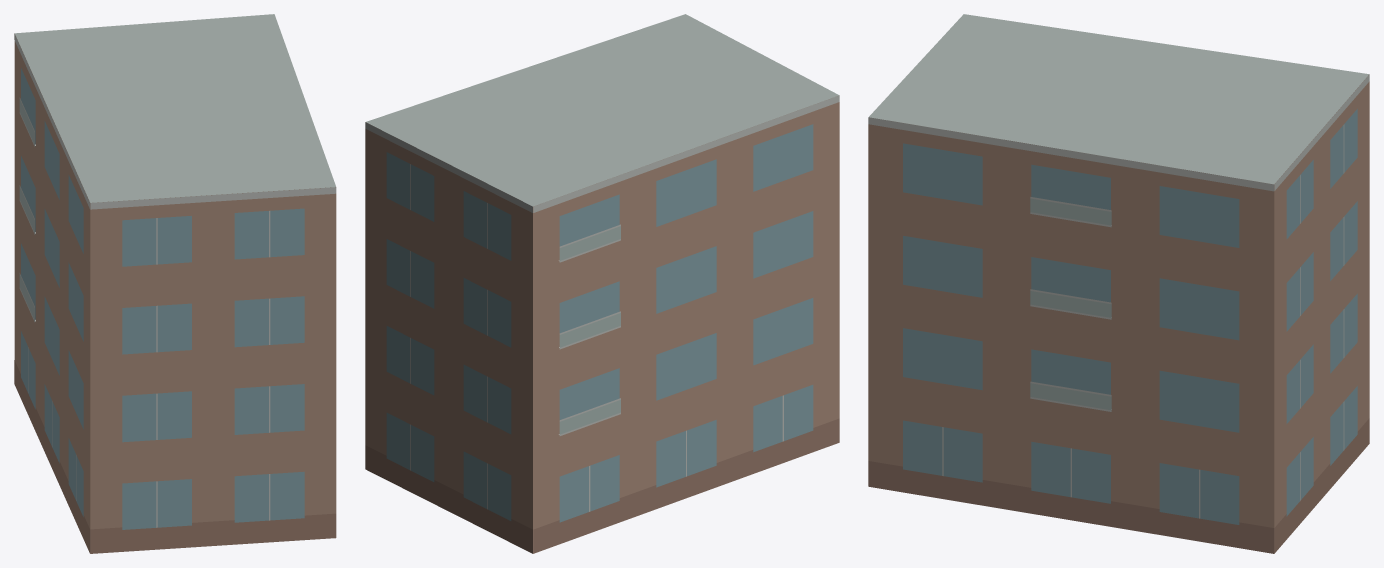
Rendered from survey-upis-32759686.glb.
3 views of the same model, side by side, from view 1: azimuth 30°, elevation 25°; view 2: azimuth 150°, elevation 25°; view 3: azimuth 270°, elevation 25° (orthographic). The views are drawn at different scales.
Visible parts, largest first — view 1: survey-upis-32759686.tmp; view 2: survey-upis-32759686.tmp; view 3: survey-upis-32759686.tmp.
Boxes of the visible parts, x1,y1,x2,y2 form: survey-upis-32759686.tmp: (14, 14, 336, 553); survey-upis-32759686.tmp: (365, 14, 839, 553); survey-upis-32759686.tmp: (868, 14, 1369, 553).
Size of the model in its own units: 12.67 by 12.8 by 15.74.
